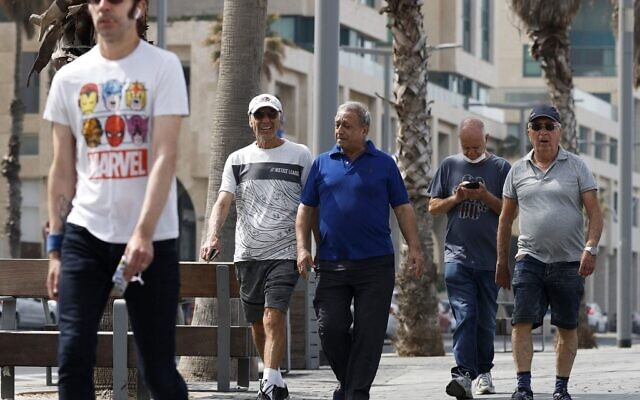with_incorrect_mask: (459, 133, 487, 164)
without_mask: (87, 1, 136, 39), (528, 119, 559, 155), (251, 108, 281, 141), (332, 114, 357, 150)
